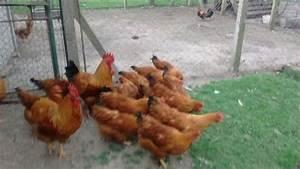hen: (10, 80, 88, 161), (59, 51, 119, 101)
